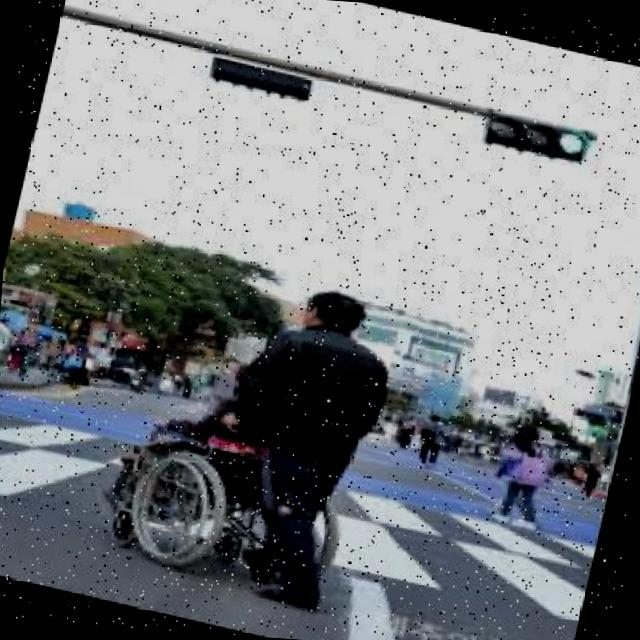Person: (195, 270, 415, 623), (94, 334, 378, 600), (482, 420, 560, 528), (413, 409, 454, 472)
